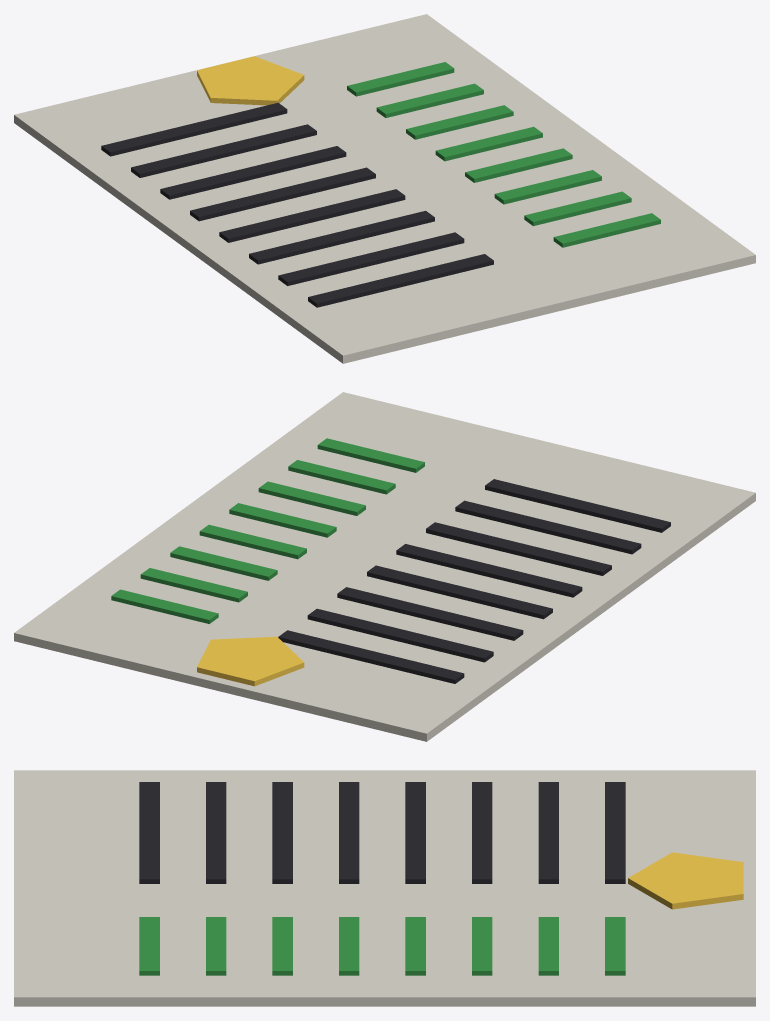
Rendered from gym_quota_sheet.glb.
The picture shows the model from 3 angles, top to bottom: view 1: azimuth 30°, elevation 25°; view 2: azimuth 150°, elevation 25°; view 3: azimuth 270°, elevation 25°; orthographic projection. The views are drawn at different scales.
Parts seen in each view (by area): view 1: paper_sheet_paper, lines_sheet_ink, lines_sheet_money (×8), star_sheet_star; view 2: paper_sheet_paper, lines_sheet_ink, lines_sheet_money (×8), star_sheet_star; view 3: paper_sheet_paper, lines_sheet_ink, lines_sheet_money (×8), star_sheet_star.
Boxes of the visible parts, left/top/right/bottom form: paper_sheet_paper: left=14, top=14, right=755, bottom=363; lines_sheet_ink: left=101, top=102, right=493, bottom=307; lines_sheet_money (×8): left=347, top=62, right=660, bottom=247; star_sheet_star: left=197, top=56, right=304, bottom=105; paper_sheet_paper: left=14, top=392, right=755, bottom=741; lines_sheet_ink: left=278, top=479, right=670, bottom=683; lines_sheet_money (×8): left=111, top=438, right=424, bottom=623; star_sheet_star: left=197, top=636, right=304, bottom=686; paper_sheet_paper: left=14, top=770, right=755, bottom=1006; lines_sheet_ink: left=139, top=782, right=625, bottom=883; lines_sheet_money (×8): left=139, top=917, right=625, bottom=975; star_sheet_star: left=628, top=852, right=743, bottom=909.
Size of the model in its own units: 0.21 by 0.0065 by 0.29.
